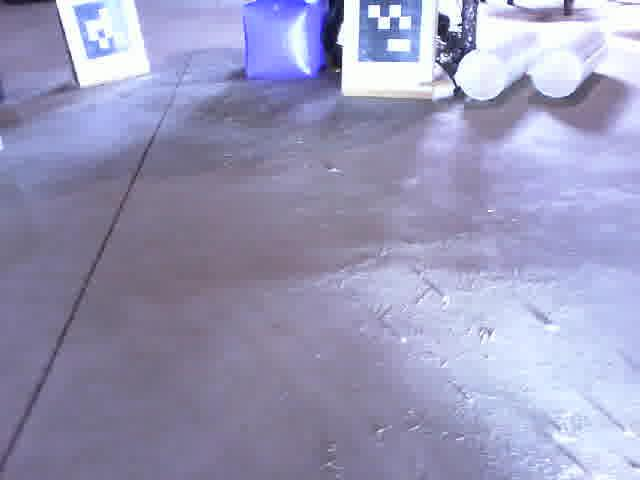coral: (453, 25, 546, 104), (528, 26, 613, 101)
